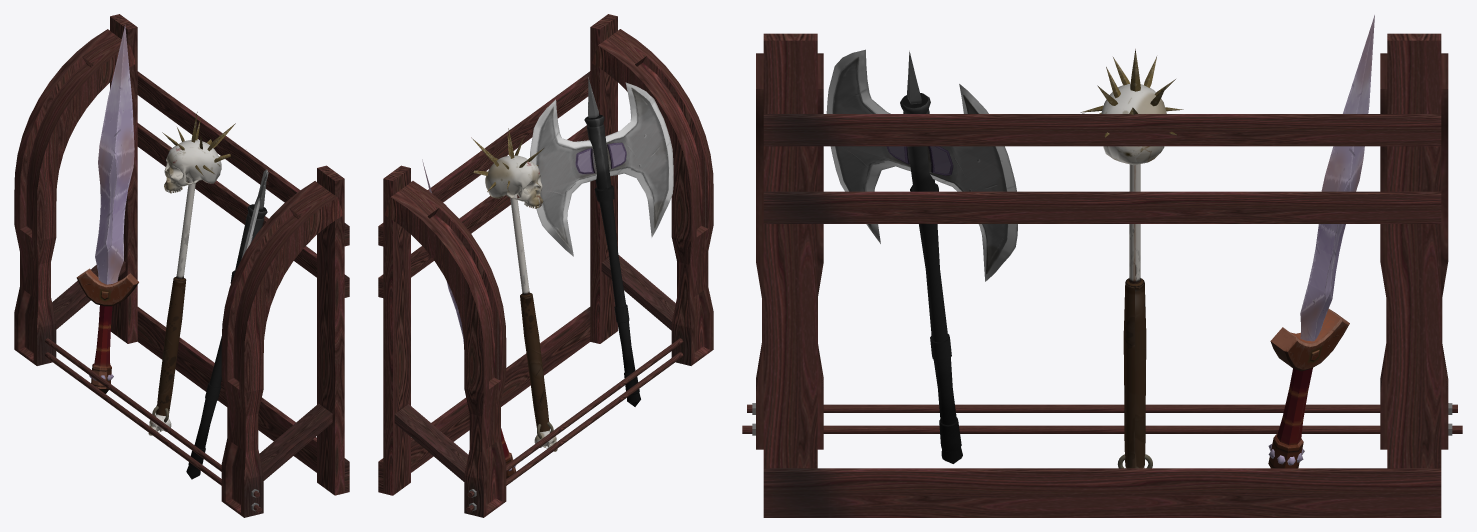
Rendered from WeaponRack.fbx.
3 views of the same model, side by side, from view 1: azimuth 30°, elevation 25°; view 2: azimuth 150°, elevation 25°; view 3: azimuth 270°, elevation 25° (orthographic). The views are drawn at different scales.
Visible parts, largest first — view 1: pCube11, pCylinder14, polySurface150, polySurface3; view 2: pCube11, polySurface3, polySurface150, pCylinder14; view 3: pCube11, polySurface3, pCylinder14, polySurface150.
Part boxes in pixels (x1,y1,x2,y2): pCube11: (14, 14, 349, 517); pCylinder14: (76, 25, 138, 393); polySurface150: (148, 112, 235, 435); polySurface3: (186, 169, 268, 479); pCube11: (378, 14, 713, 517); polySurface3: (530, 77, 673, 406); polySurface150: (471, 128, 557, 451); pCylinder14: (422, 159, 516, 478); pCube11: (742, 33, 1462, 517); polySurface3: (826, 49, 1017, 463); pCylinder14: (1268, 15, 1374, 468); polySurface150: (1080, 49, 1183, 468).
Size of the model in its own units: 54.18 by 148 by 190.
